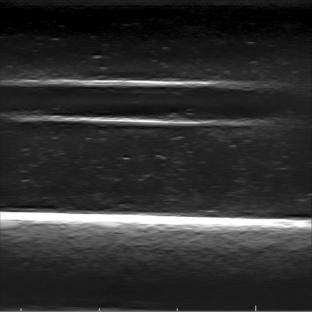vessel: (3, 78, 297, 128)
